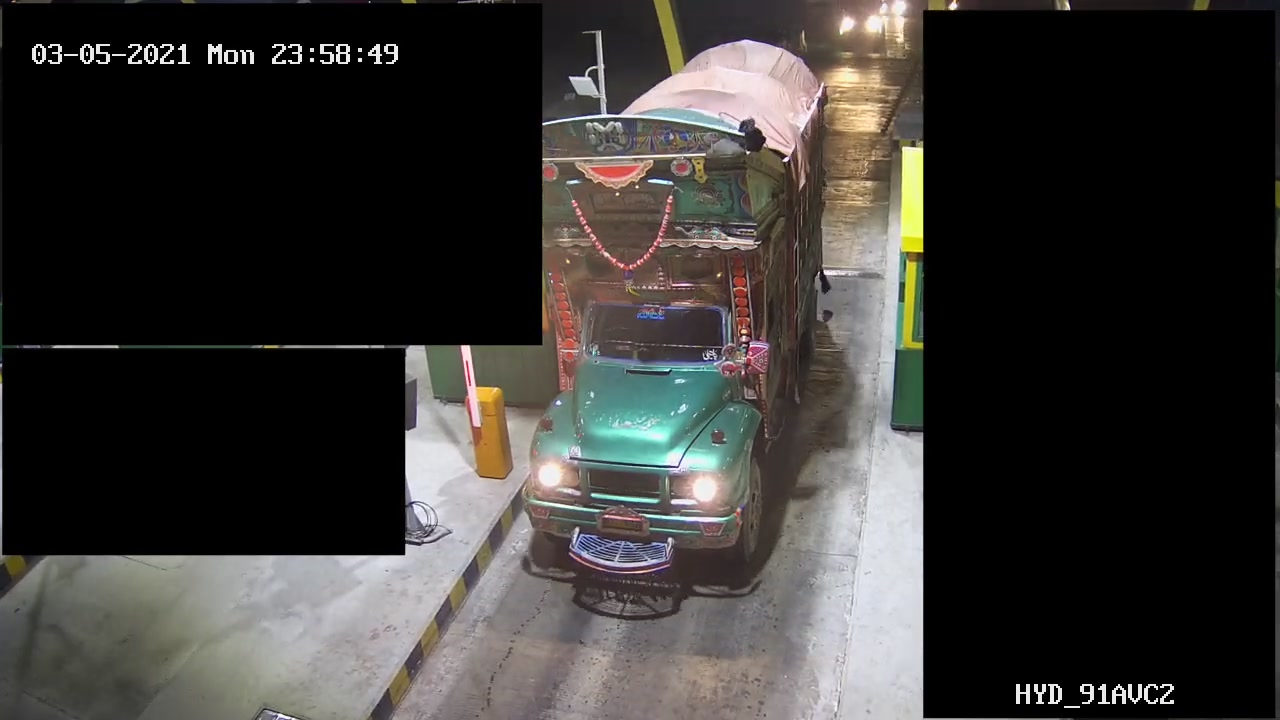F5: (498, 32, 834, 600)
